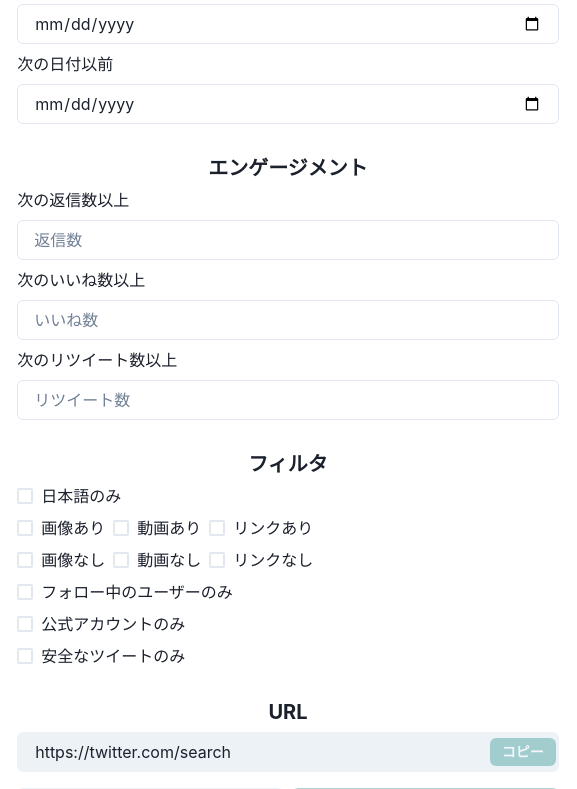
Test: エンゲージメント検索 › 次のリツイート数以上
(page scrolled)
Type "10000" into the number field with test id "min_retweets". click: (288, 400)
box: x1=17 y1=380 x2=559 y2=420
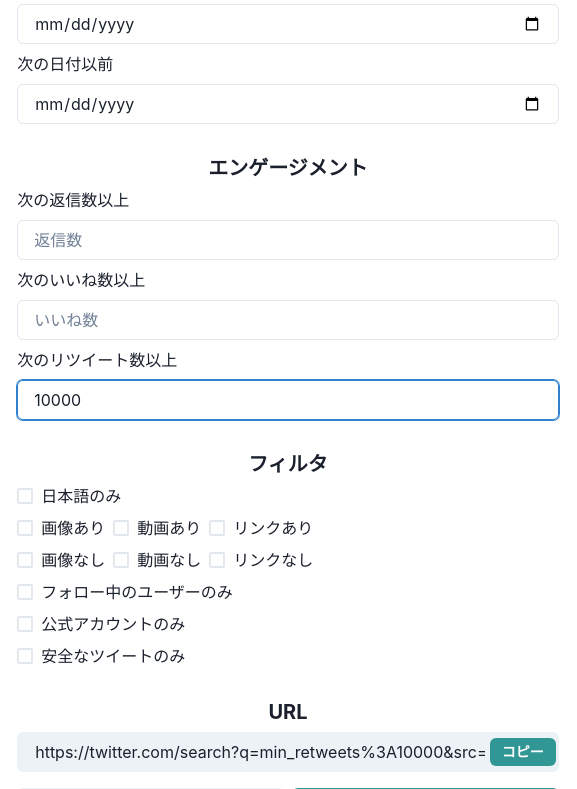
Now the field with test id "url" holds "https://twitter.com/search?q=min_retweets%3A10000&src=typed_query", box x1=17 y1=732 x2=559 y2=772
